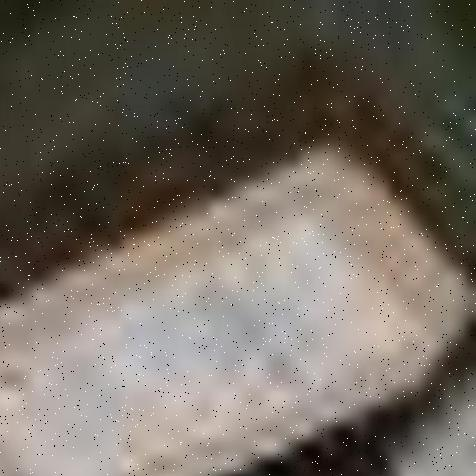Other: (0, 153, 436, 476)
